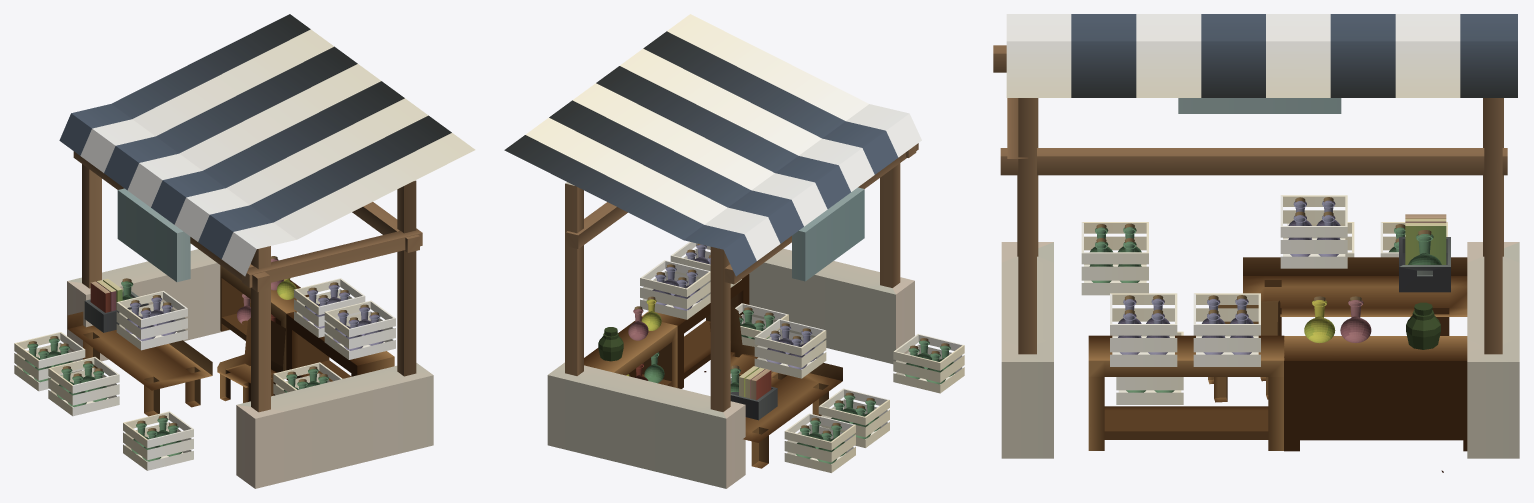
The model's file is stall_c.glb.
The picture shows the model from 3 angles, left to right: view 1: azimuth 30°, elevation 25°; view 2: azimuth 150°, elevation 25°; view 3: azimuth 270°, elevation 25°; orthographic projection. The views are drawn at different scales.
Visible parts, largest first — view 1: Cube008; view 2: Cube008; view 3: Cube008.
Boxes of the visible parts, x1,y1,x2,y2 form: Cube008: (14,14,475,488); Cube008: (504,14,964,488); Cube008: (993,14,1519,472).
Size of the model in its own units: 2.25 by 2.22 by 2.47.
1 material, 1 textured.
